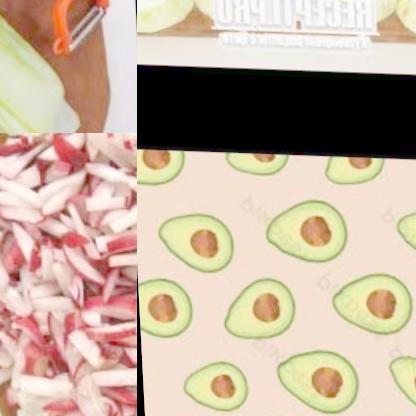avocado: (245, 196, 353, 270), (144, 198, 239, 276), (258, 347, 363, 416), (314, 274, 416, 341), (207, 275, 297, 344), (172, 354, 249, 415), (137, 271, 188, 340), (370, 193, 416, 263), (376, 345, 416, 413), (304, 154, 388, 185), (190, 150, 286, 175), (137, 148, 194, 183)
rediska: (0, 133, 137, 416)
vegetable marrow: (0, 0, 90, 133), (180, 0, 296, 30), (297, 0, 396, 29), (137, 0, 201, 41)
